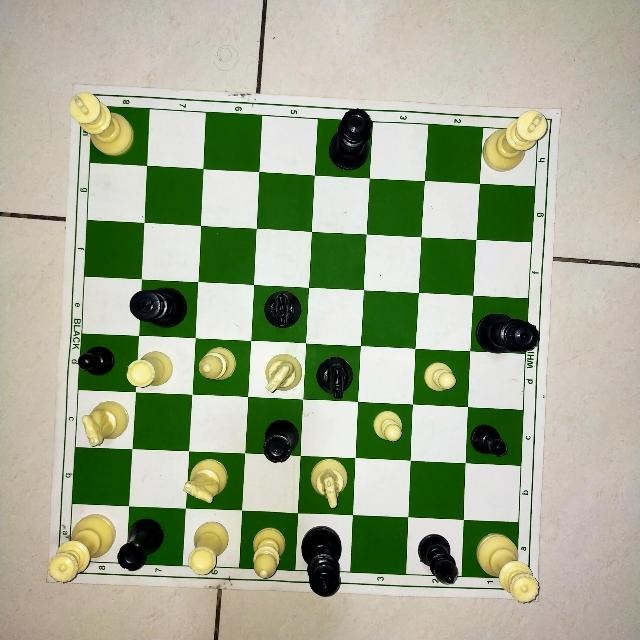black-bishop: (410, 518, 463, 577)
black-king: (142, 283, 196, 337), (297, 516, 348, 573)
black-knight: (255, 290, 305, 344), (308, 346, 356, 402)
black-pawn: (468, 409, 521, 467), (82, 335, 133, 391)
black-queen: (319, 121, 369, 179), (474, 299, 528, 351)
black-rook: (248, 398, 300, 457), (129, 509, 168, 565)
white-bishop: (195, 340, 247, 397), (244, 514, 293, 572)
white-king: (90, 109, 146, 165), (484, 130, 534, 186)
white-knight: (78, 390, 131, 450), (301, 458, 353, 515), (189, 454, 239, 512), (252, 343, 301, 399)
white-pawn: (358, 402, 410, 461), (416, 350, 468, 407)
white-queen: (466, 523, 520, 579), (74, 507, 114, 563)
white-rook: (139, 338, 193, 395), (188, 514, 236, 567)
